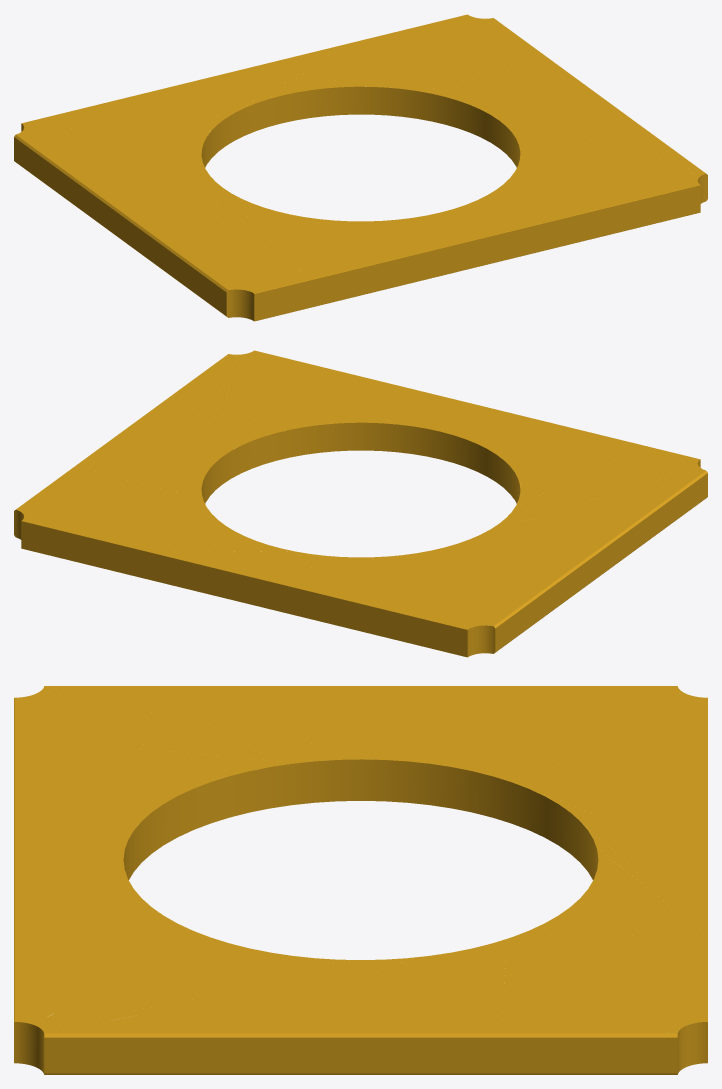
File: asinma-rammer-g80-wear-plate-no3-02.glb
The picture shows the model from 3 angles, top to bottom: view 1: azimuth 30°, elevation 25°; view 2: azimuth 150°, elevation 25°; view 3: azimuth 270°, elevation 25°; orthographic projection. The views are drawn at different scales.
Parts seen in each view (by area): view 1: body; view 2: body; view 3: body.
Part boxes in pixels (box(x1,y1,x2,y2)): body: box(14, 14, 707, 321); body: box(14, 350, 707, 657); body: box(14, 686, 707, 1074).
Size of the model in its own units: 0.136 by 0.0075 by 0.114.
